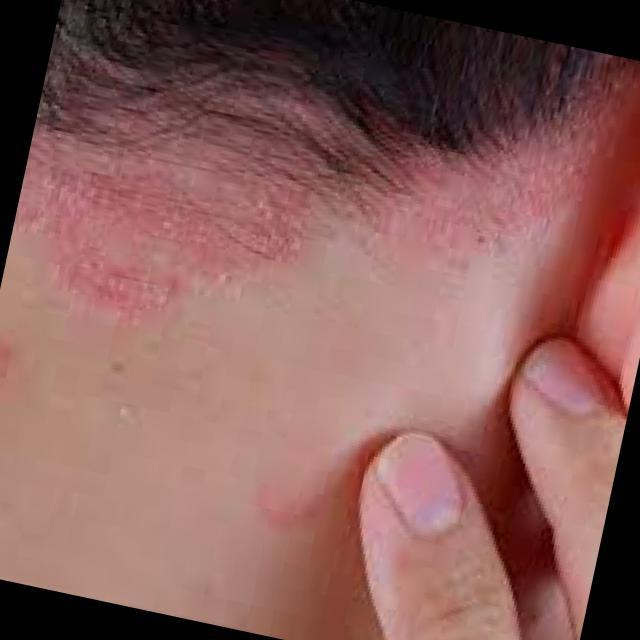Eczema: (39, 78, 571, 300)
